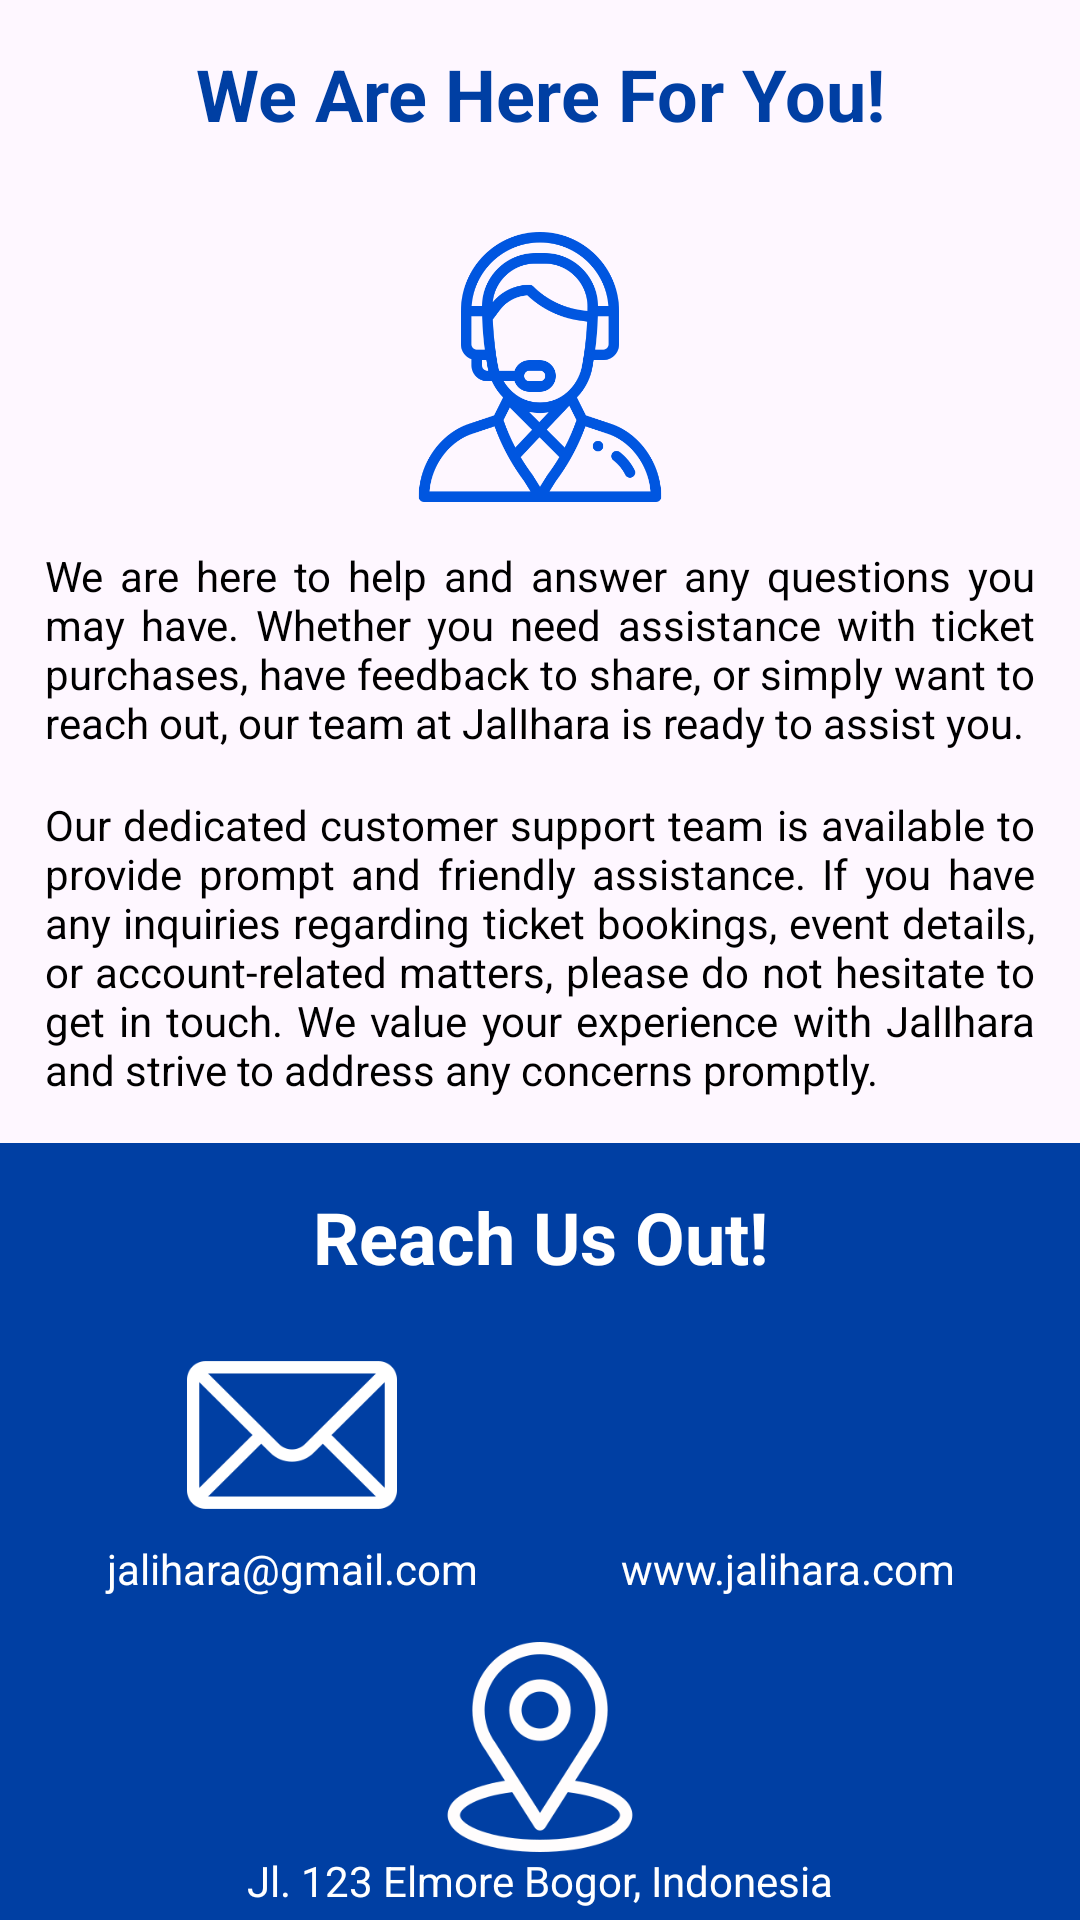

Screen size 1080px×1920px. Icon name, then its center in pixels as point (x, y):
location: point (540, 1747)
support: point (540, 367)
